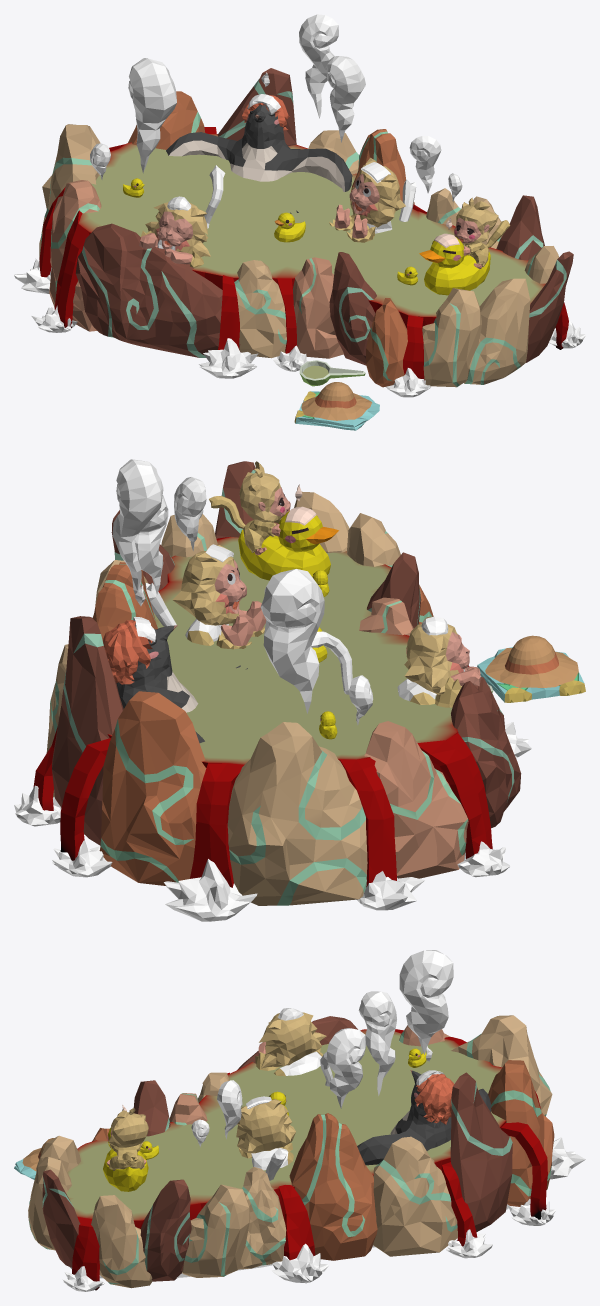
Rendered from 0057_vapenSpa.fbx.
3 renders of one model, top to bottom at view 1: azimuth 30°, elevation 25°; view 2: azimuth 150°, elevation 25°; view 3: azimuth 270°, elevation 25°, orthographic. The views are drawn at different scales.
Visible parts, largest first — view 1: [water]Spring_Water, Spring_Stone03, Spring_Stone10 (×2), Steam02 (×2), Spring_Stone09 (×2), Spring_Stone02 (×2), Vapen_Body, Spring_Stone11, Spring_Stone07 (×2), WS (×5), Spring_Stone01, Spring_Stone05 (×2) (+18 smaller); view 2: [water]Spring_Water, Spring_Stone05, Spring_Stone06, Spring_Stone07 (×2), Spring_Stone04, WS (×5), Steam02 (×2), Spring_Stone03, B_Monkey_RubberDuck, Y_Monkey_Head, Vapen_Head, Steam01 (+18 smaller); view 3: [water]Spring_Water, Spring_Stone09 (×3), Spring_Stone08, Spring_Stone07 (×2), Spring_Stone02 (×2), Spring_Stone05 (×2), Steam02 (×2), Spring_Stone10 (×2), Spring_Stone06, WS (×5), Y_Monkey_Head, G_monkey_Head (+13 smaller).
Part boxes in pixels (x1,y1,x2,y2): [water]Spring_Water: (39,127,568,380); Spring_Stone03: (75,223,241,357); Spring_Stone10 (×2): (329,195,544,365); Steam02 (×2): (128,56,365,173); Spring_Stone09 (×2): (422,246,558,387); Spring_Stone02 (×2): (234,130,359,358); Vapen_Body: (166,132,352,213); Spring_Stone11: (464,278,530,384); Spring_Stone07 (×2): (217,68,573,362); WS (×5): (14,259,430,397); Spring_Stone01: (292,257,343,358); Spring_Stone05 (×2): (39,124,460,259); [water]Spring_Water: (33,536,492,887); Spring_Stone05: (227,722,367,905); Spring_Stone06: (99,691,206,885); Spring_Stone07 (×2): (52,461,278,845); Spring_Stone04: (364,721,468,878); WS (×5): (14,785,510,921); Steam02 (×2): (134,495,324,713); Spring_Stone03: (451,677,521,828); B_Monkey_RubberDuck: (238,484,338,580); Y_Monkey_Head: (172,545,246,625); Vapen_Head: (103,620,177,698); Steam01: (112,459,163,594); [water]Spring_Water: (66,1029,547,1290); Spring_Stone09 (×3): (36,1135,250,1288); Spring_Stone08: (289,1113,377,1260); Spring_Stone07 (×2): (42,1072,512,1267); Spring_Stone02 (×2): (197,1072,457,1256); Spring_Stone05 (×2): (238,1015,552,1269); Steam02 (×2): (327,950,453,1108); Spring_Stone10 (×2): (133,1080,191,1281); Spring_Stone06: (488,1060,554,1206); WS (×5): (63,1137,585,1291); Y_Monkey_Head: (236,1099,295,1153); G_monkey_Head: (259,1012,326,1068).
Bounding box in the file's own units: 8.28 × 4.88 × 10.18.
